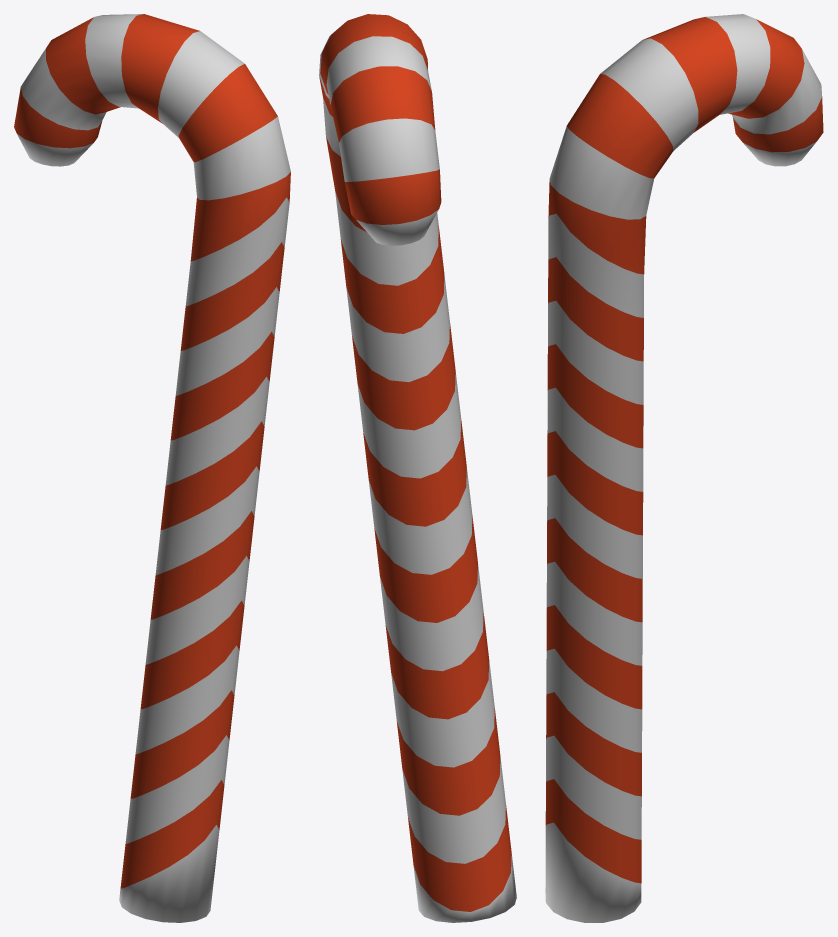
The model's file is candy_cane_wr4.fbx.
3 renders of one model, left to right at view 1: azimuth 30°, elevation 25°; view 2: azimuth 150°, elevation 25°; view 3: azimuth 270°, elevation 25°, orthographic. The views are drawn at different scales.
Parts seen in each view (by area): view 1: Cylinder; view 2: Cylinder; view 3: Cylinder.
Part boxes in pixels (left/top/right/bottom): Cylinder: left=14, top=14, right=290, bottom=922; Cylinder: left=319, top=14, right=516, bottom=922; Cylinder: left=545, top=14, right=823, bottom=922.
Size of the model in its own units: 429 by 1929 by 542.
